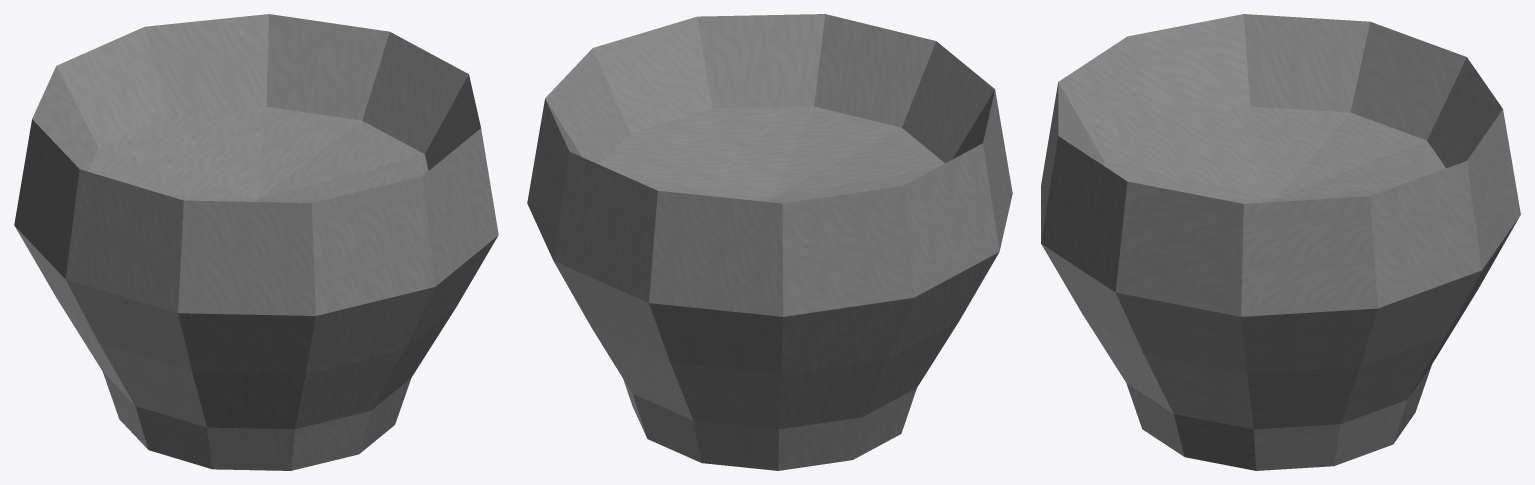
The model's file is fogueira alta.fbx.
3 renders of one model, left to right at view 1: azimuth 30°, elevation 25°; view 2: azimuth 150°, elevation 25°; view 3: azimuth 270°, elevation 25°, orthographic.
Parts seen in each view (by area): view 1: Sphere; view 2: Sphere; view 3: Sphere.
Part boxes in pixels (left/top/right/bottom): Sphere: left=14, top=14, right=498, bottom=470; Sphere: left=527, top=14, right=1012, bottom=470; Sphere: left=1041, top=14, right=1520, bottom=470.
Size of the model in its own units: 151 by 105 by 149.
